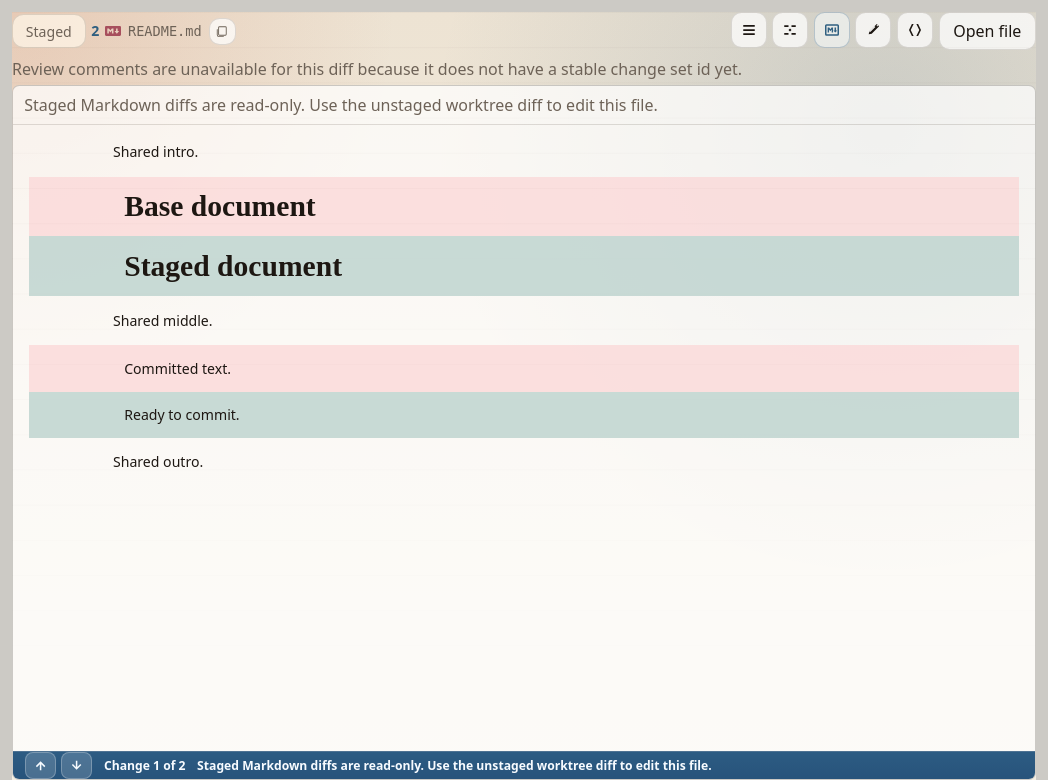
Scenario: DiffPanel › navigates between rendered Markdown change blocks via prev/next controls and a counter
This screenshot has width=1048, height=780.
Expected: the text "Change 1 of 2" is shown, top-left (104, 759), bottom-right (186, 772)
Click the button named "Next change" at (77, 765), box top-left (61, 752), bottom-right (92, 779)
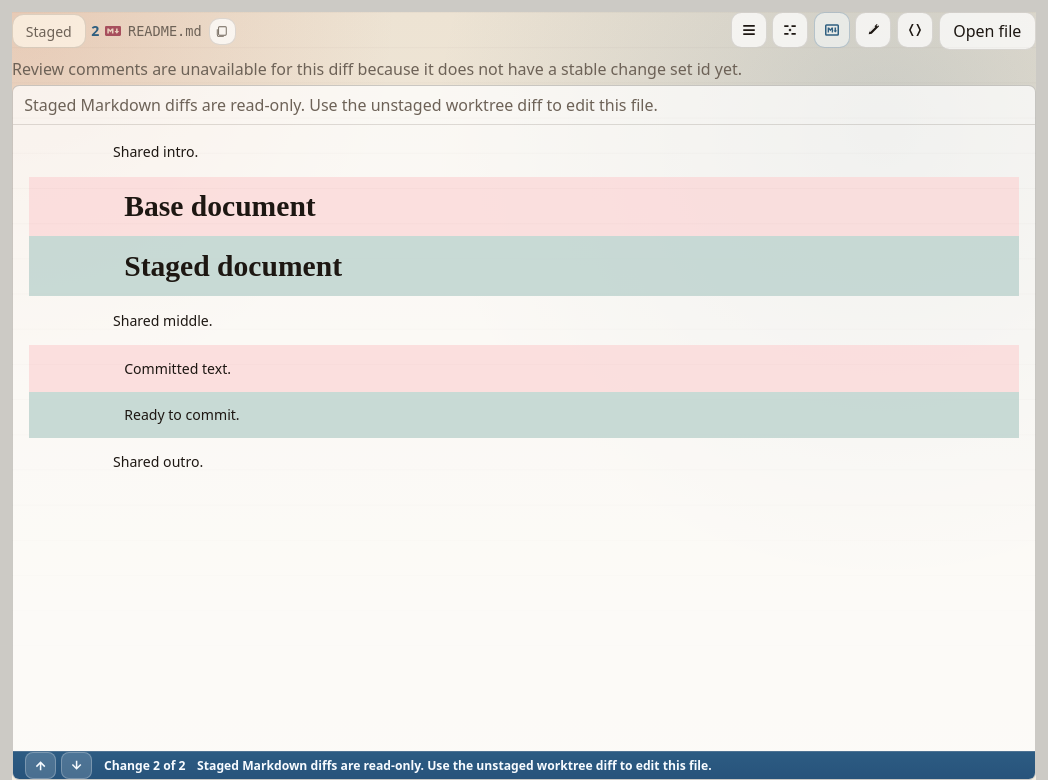
Now the text "Change 2 of 2" is shown, box top-left (104, 759), bottom-right (186, 772)
Click the button named "Next change" at (77, 765), box top-left (61, 752), bottom-right (92, 779)
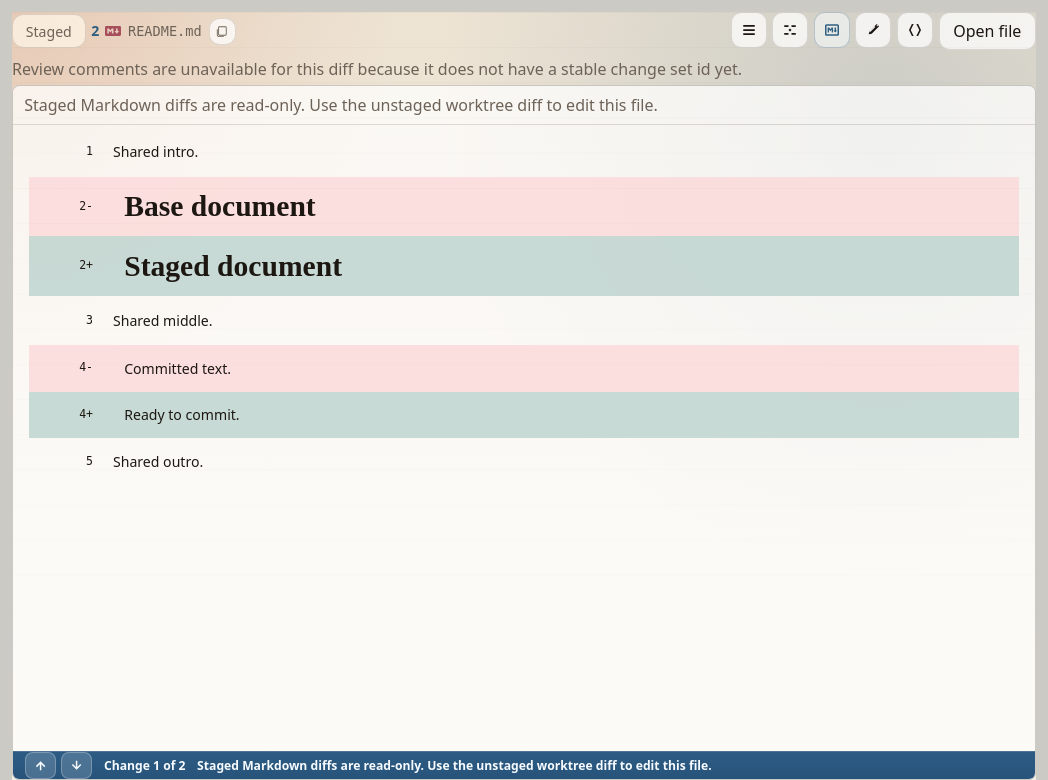
Now the text "Change 1 of 2" is shown, box top-left (104, 759), bottom-right (186, 772)
Click the button named "Previous change" at (40, 765), box top-left (24, 752), bottom-right (56, 779)
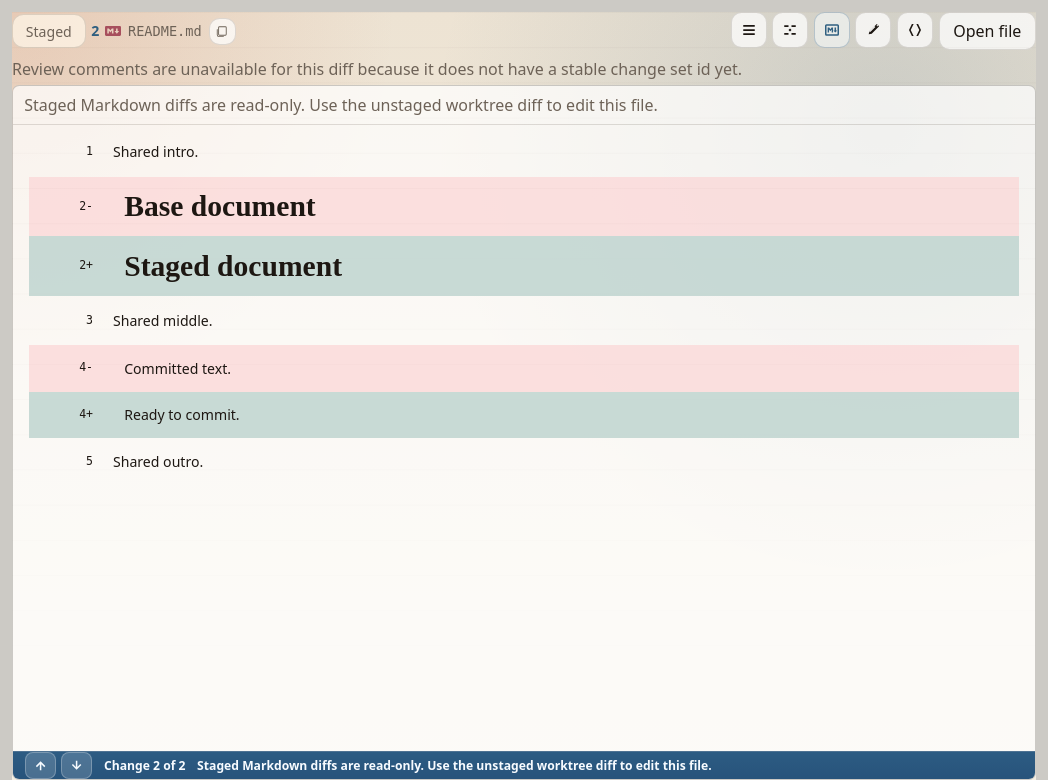
Now the text "Change 2 of 2" is shown, box top-left (104, 759), bottom-right (186, 772)
Click the button named "Previous change" at (40, 765), box top-left (24, 752), bottom-right (56, 779)
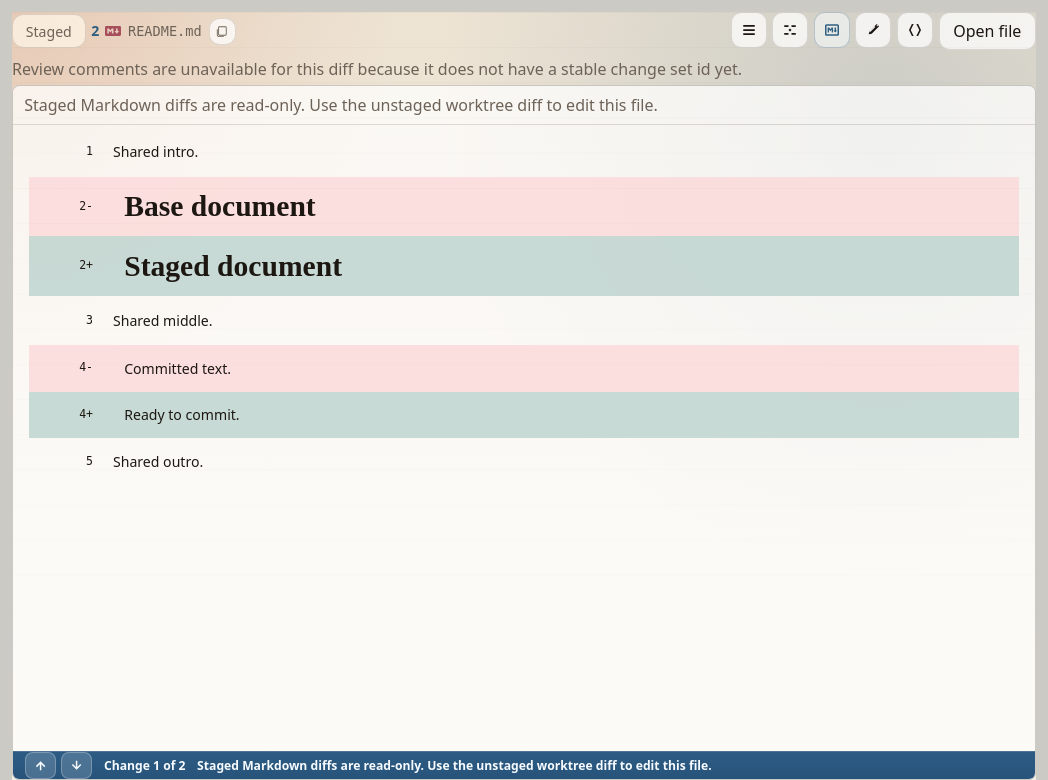
Now the text "Change 1 of 2" is shown, box top-left (104, 759), bottom-right (186, 772)
